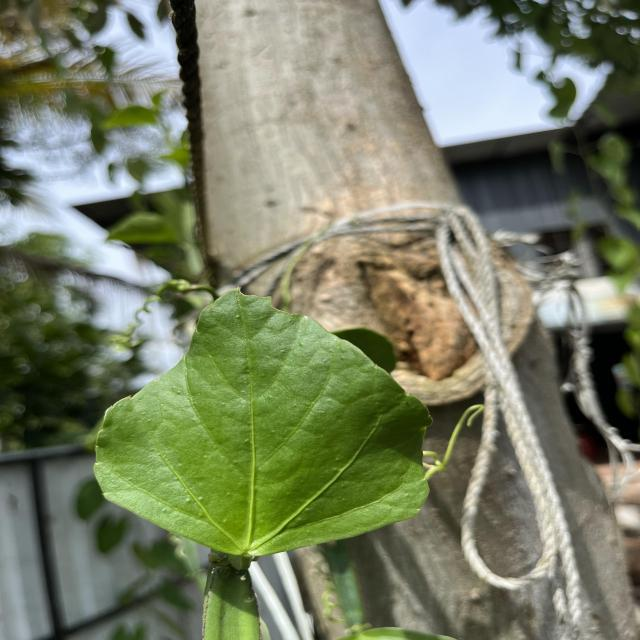Cissus quadrangularis: (89, 282, 438, 559)
